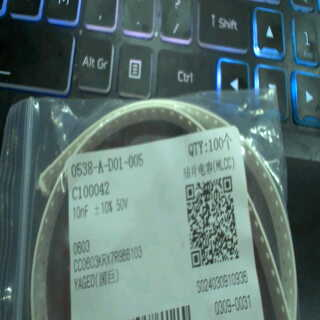10nF: (69, 203, 92, 220)
